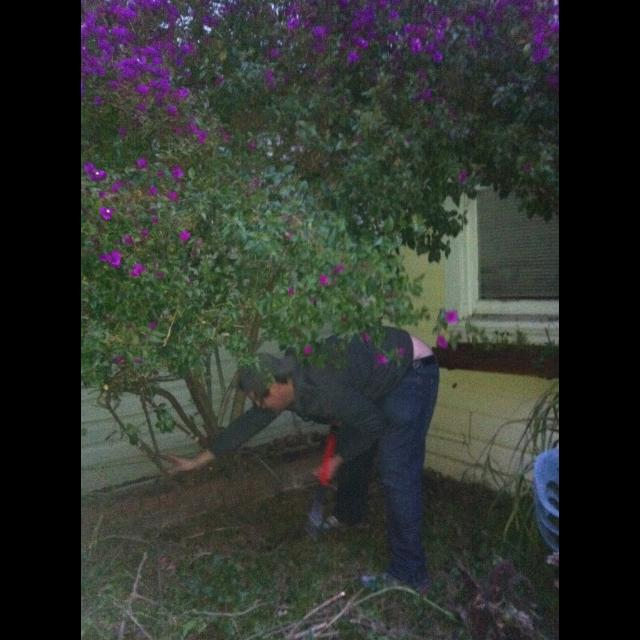Flower: (81, 0, 558, 114), (191, 120, 211, 142), (179, 234, 193, 258), (174, 170, 190, 190), (126, 266, 144, 282), (96, 165, 108, 185), (105, 252, 121, 266), (132, 160, 146, 172), (103, 207, 113, 223), (436, 338, 448, 350)
